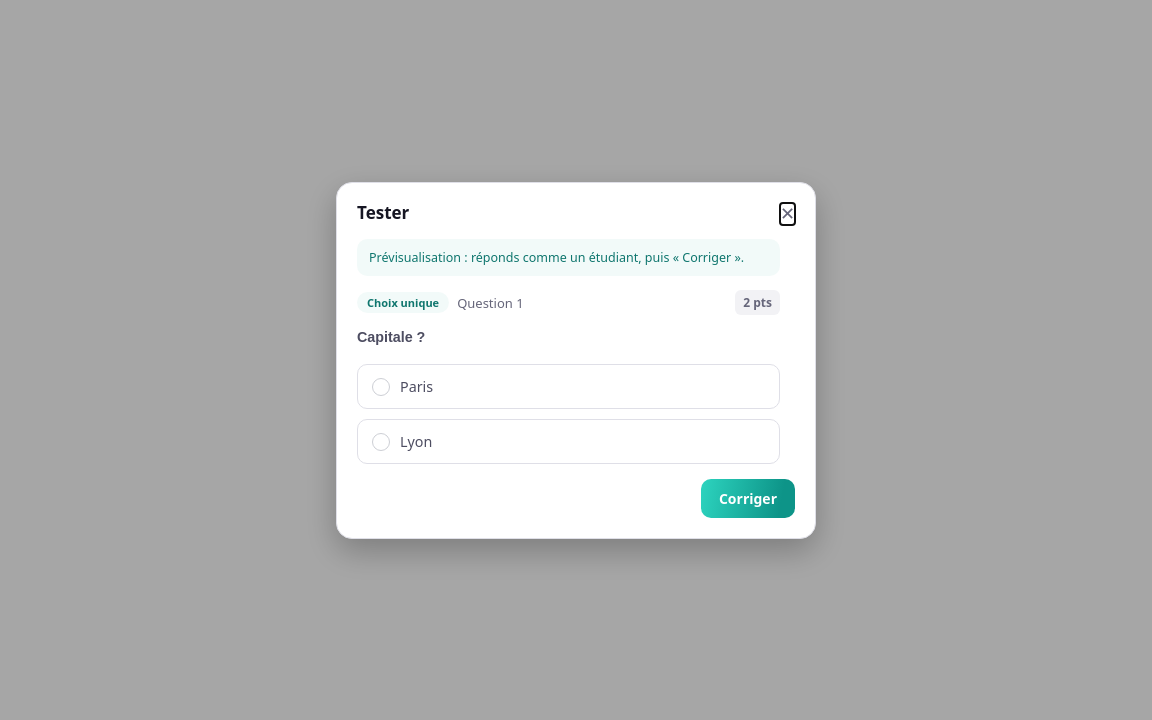
Scenario: QuestionTestBody — correction locale (types à réponses) › mauvaise réponse → score nul
Click the button "Lyon" at point(416, 442), box [357, 419, 780, 464]
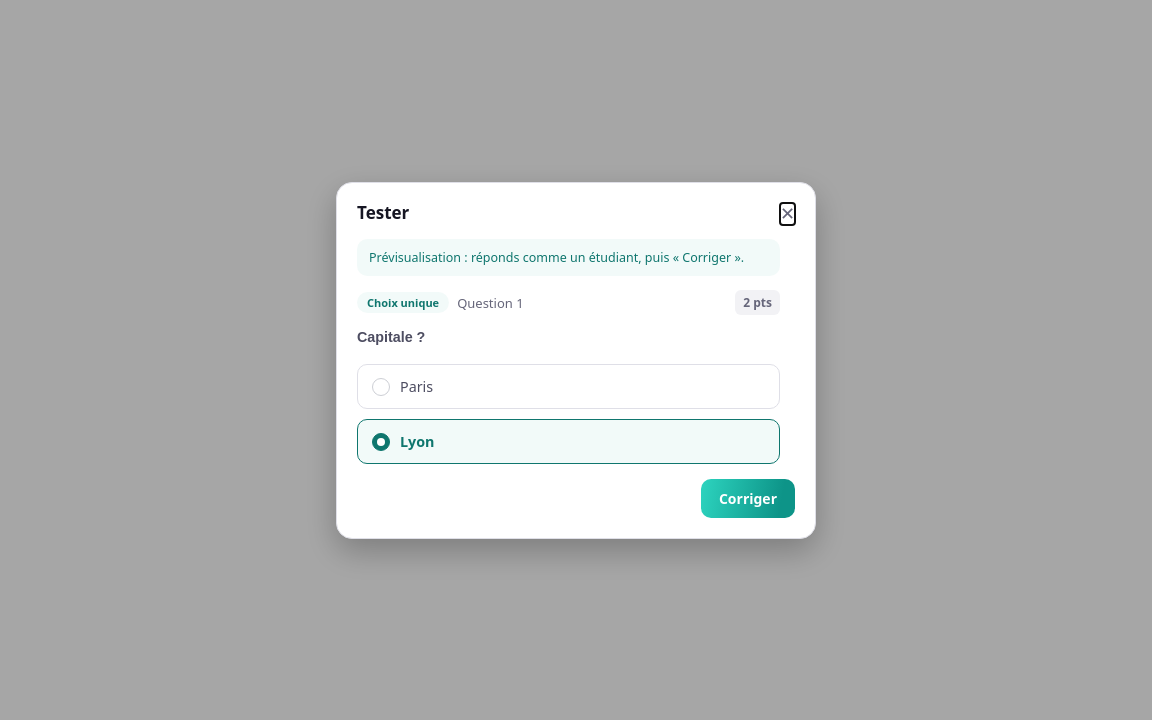
Click the button "Corriger" at point(748, 498), box [701, 478, 795, 518]
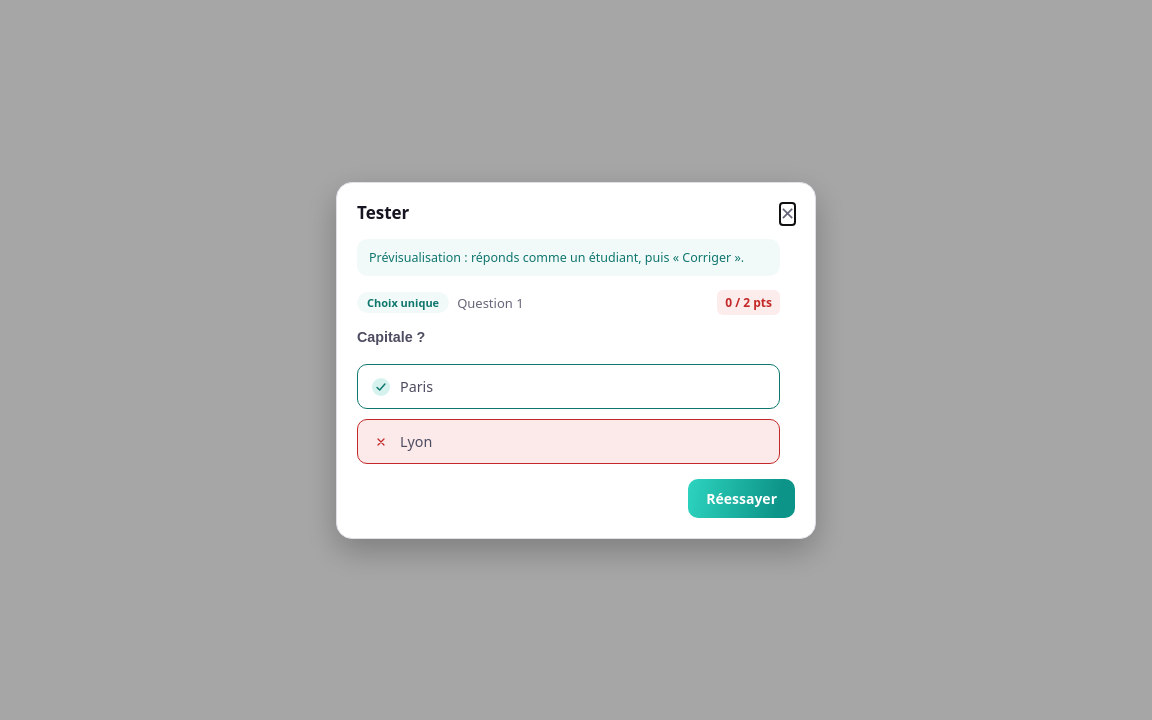
Expected: the text "0 / 2 pts" is shown, [717, 290, 780, 315]
